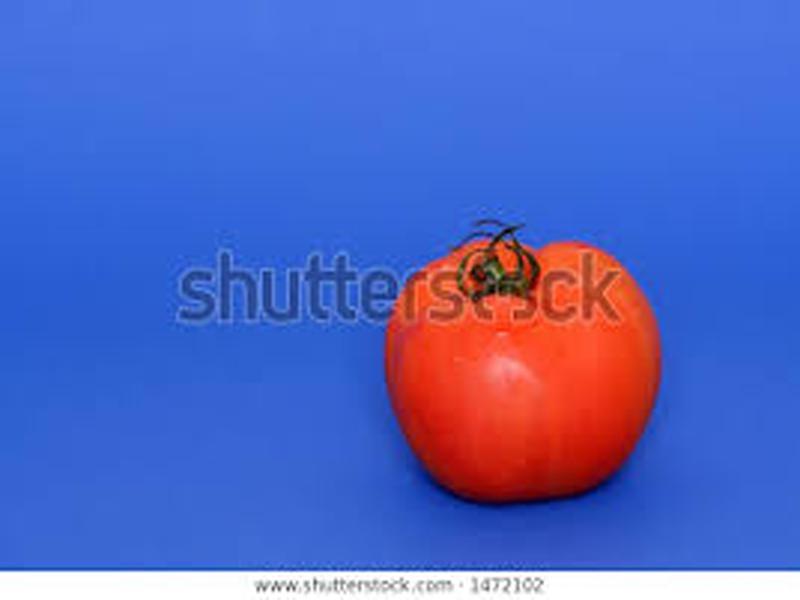Tomato: (388, 236, 666, 498)
